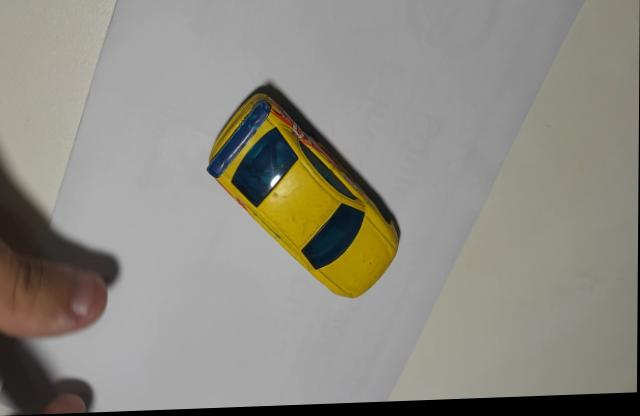02_OZSOME: (206, 81, 402, 301)
